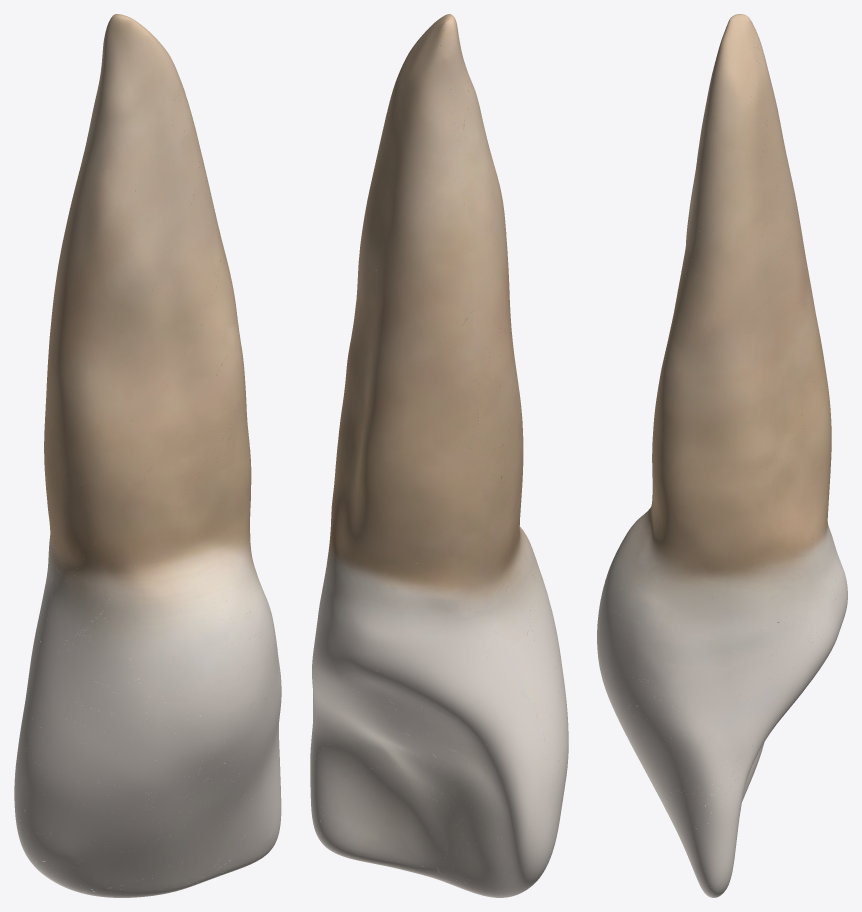
The picture shows the model from 3 angles, left to right: view 1: azimuth 30°, elevation 25°; view 2: azimuth 150°, elevation 25°; view 3: azimuth 270°, elevation 25°; orthographic projection. The views are drawn at different scales.
Visible parts, largest first — view 1: diente-52 (×2); view 2: diente-52 (×2); view 3: diente-52 (×2).
Part boxes in pixels (bbox=[...]): diente-52 (×2): bbox=[14, 14, 281, 897]; diente-52 (×2): bbox=[310, 14, 568, 897]; diente-52 (×2): bbox=[597, 14, 847, 897].
Size of the model in its own units: 0.00468 by 0.0158 by 0.00433.
1 material, 1 textured.
